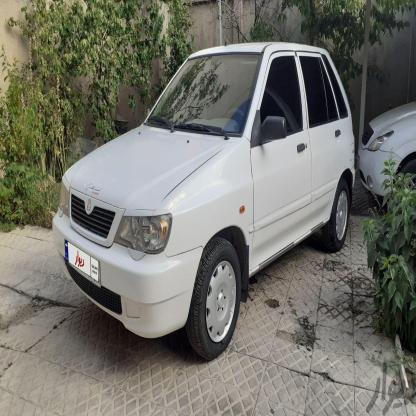Car: (49, 30, 356, 346), (349, 85, 416, 200)
